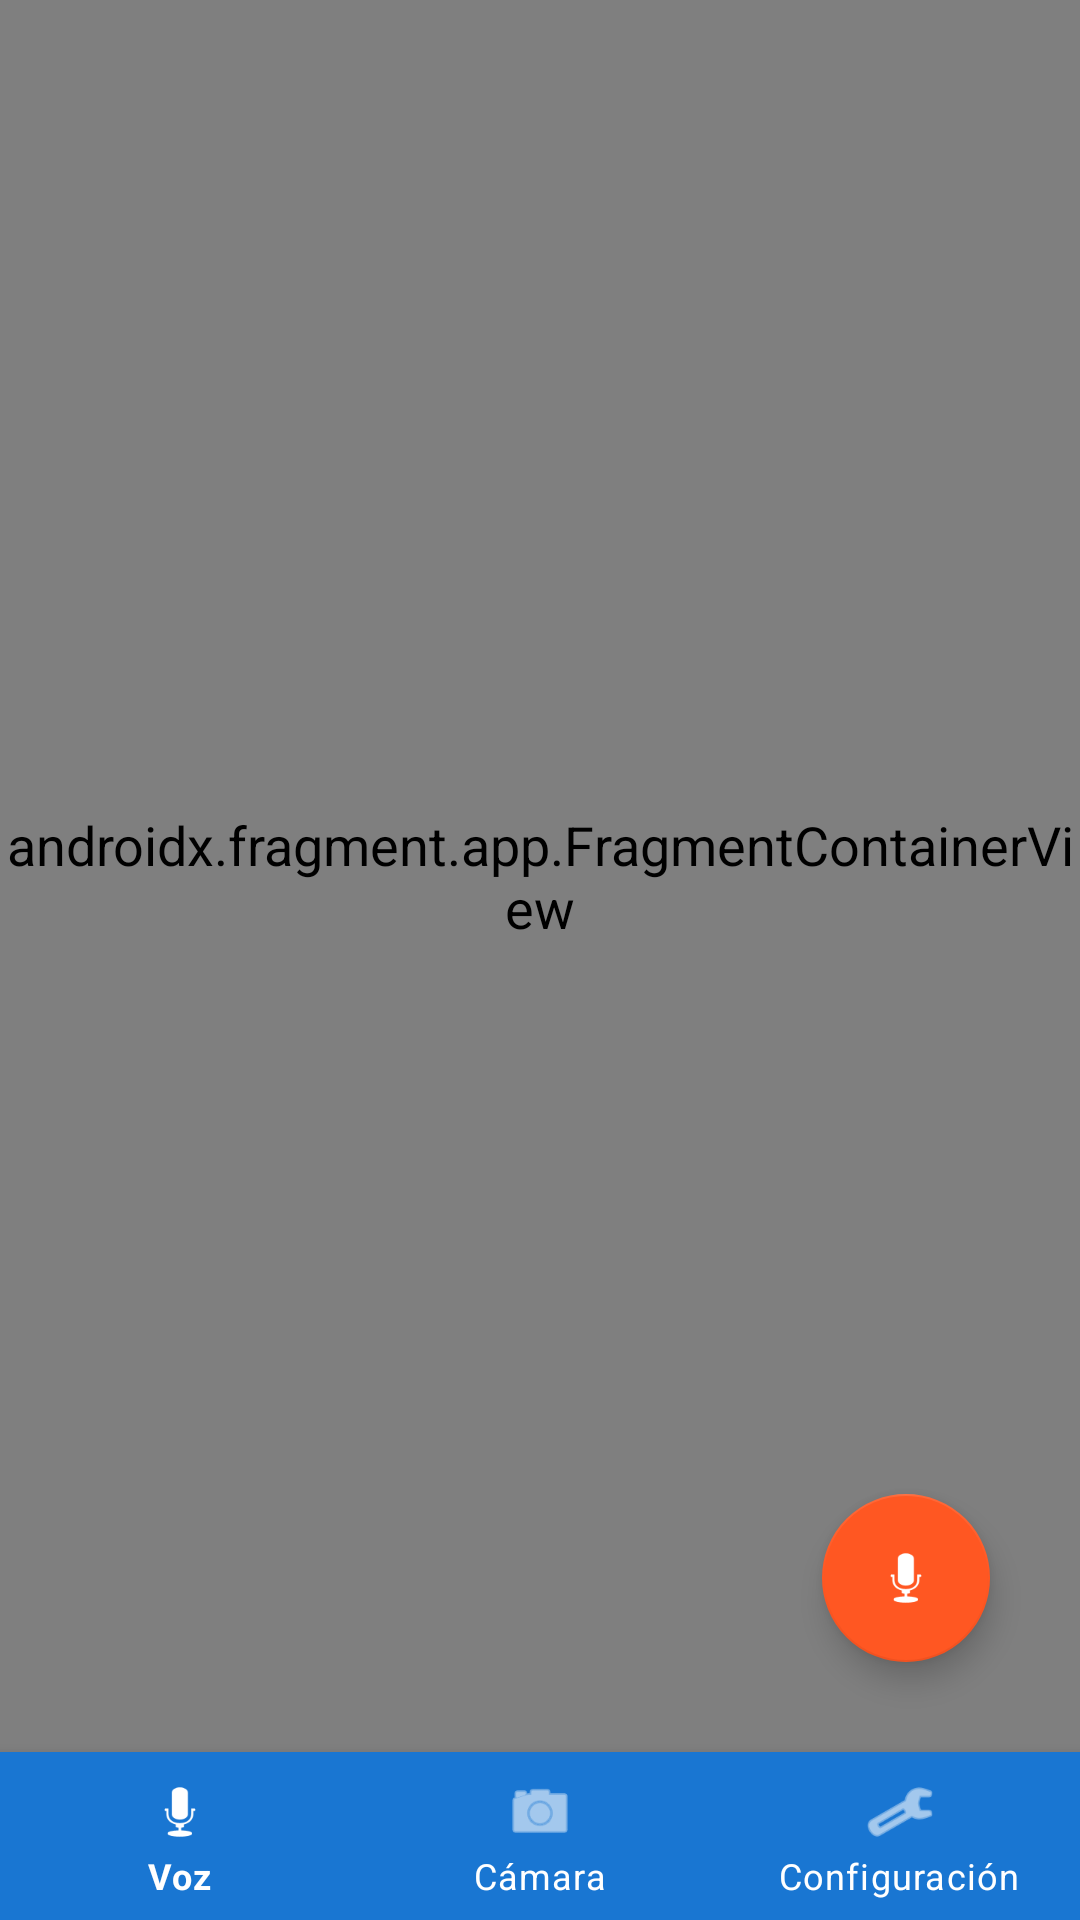

Icon click points for this 1080*1920 phone screenshot, format point (x, y):
Activar asistente de voz: point (906, 1578)
